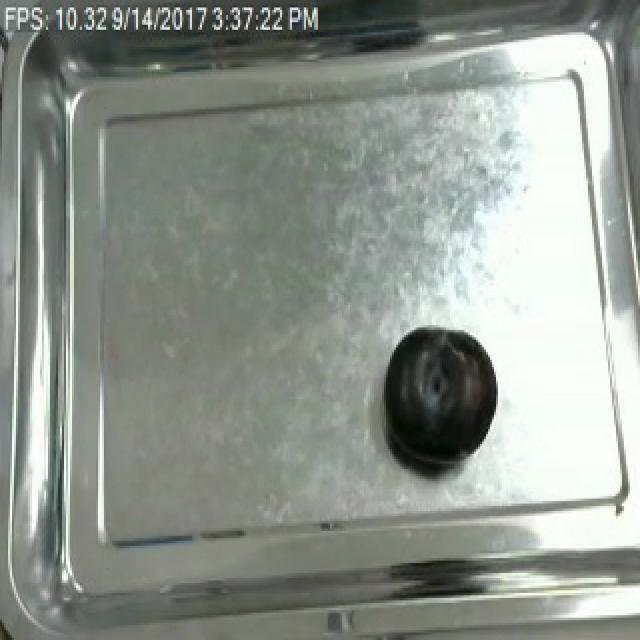Fruit: (376, 320, 504, 474)
